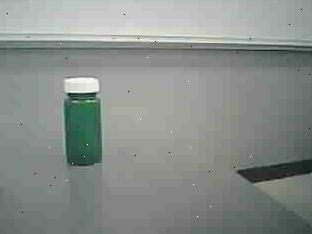Bottle C: (53, 70, 114, 174)
